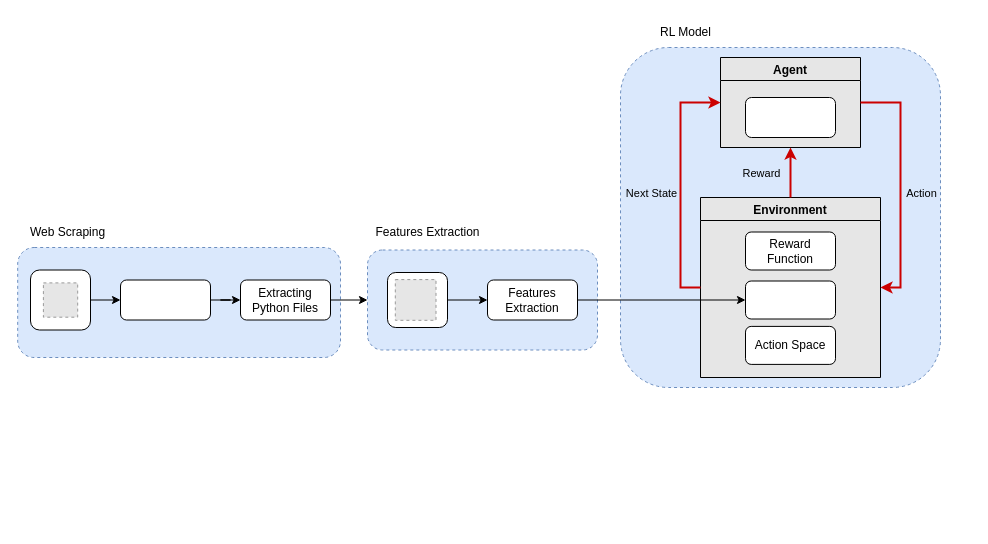
This 988x544 diagram has some shape labels left out. Grey dashed boxes stand in for pictures. The centre of each missing label's shape, as x and y in pixels:
"Cloning Repositories" goes at point 165,299.
"Observation Space" goes at point 790,299.
"Policy" goes at point 790,117.
